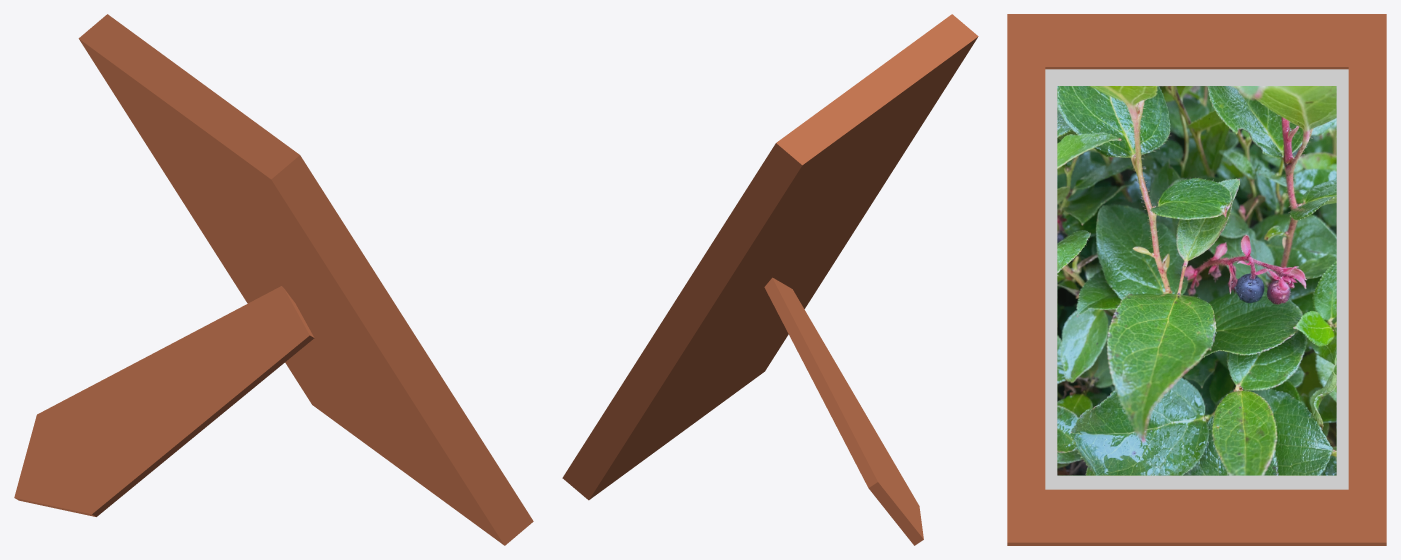
Rendered from picture-frame-2-0.glb.
The picture shows the model from 3 angles, left to right: view 1: azimuth 30°, elevation 25°; view 2: azimuth 150°, elevation 25°; view 3: azimuth 270°, elevation 25°; orthographic projection. The views are drawn at different scales.
Visible parts, largest first — view 1: Plane, Plane.001; view 2: Plane, Plane.001; view 3: Plane.
Part boxes in pixels (box(x1,y1,x2,y2)): Plane: box(78, 14, 533, 545); Plane.001: box(14, 286, 314, 516); Plane: box(562, 14, 978, 500); Plane.001: box(764, 277, 923, 545); Plane: box(1007, 14, 1386, 545).
Size of the model in its own units: 2.16 by 2.52 by 2.
3 materials, 1 textured.
